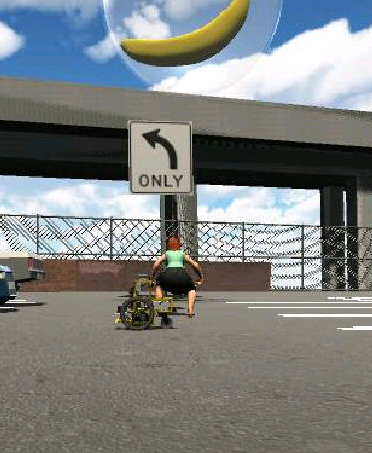arrow_left: (137, 125, 185, 171)
